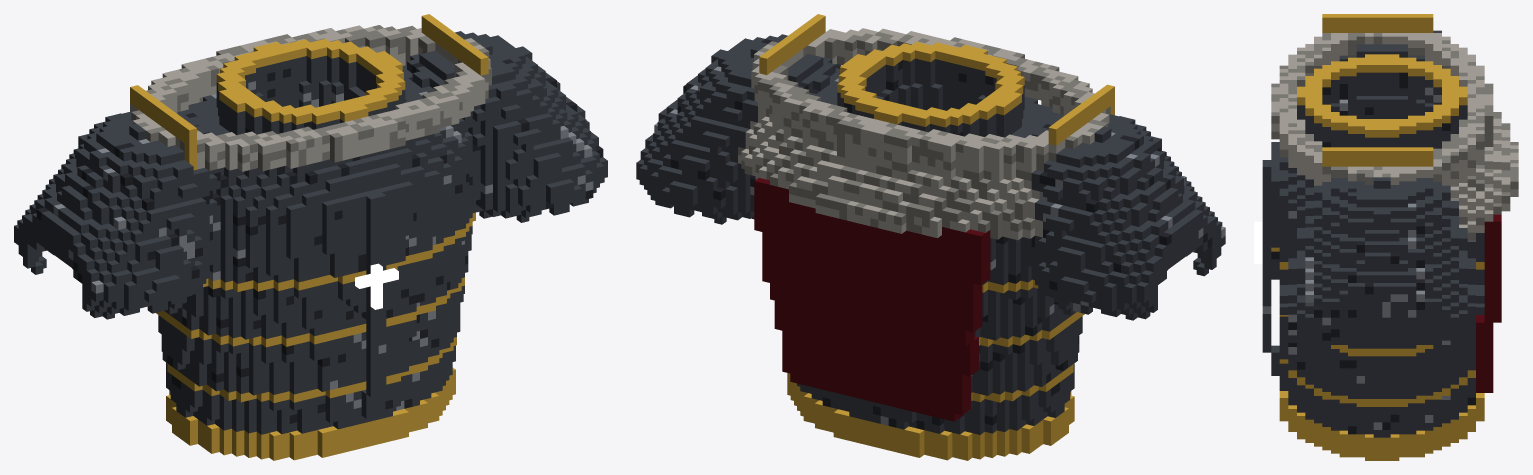
The model's file is rimewarden_harness.glb.
3 renders of one model, left to right at view 1: azimuth 30°, elevation 25°; view 2: azimuth 150°, elevation 25°; view 3: azimuth 270°, elevation 25°, orthographic. The views are drawn at different scales.
Parts seen in each view (by area): view 1: rimewarden_harness; view 2: rimewarden_harness; view 3: rimewarden_harness.
Boxes of the visible parts, left/top/right/bottom form: rimewarden_harness: left=14, top=14, right=607, bottom=460; rimewarden_harness: left=636, top=14, right=1225, bottom=460; rimewarden_harness: left=1254, top=14, right=1518, bottom=460.
Size of the model in its own units: 0.78 by 0.492 by 0.372.
